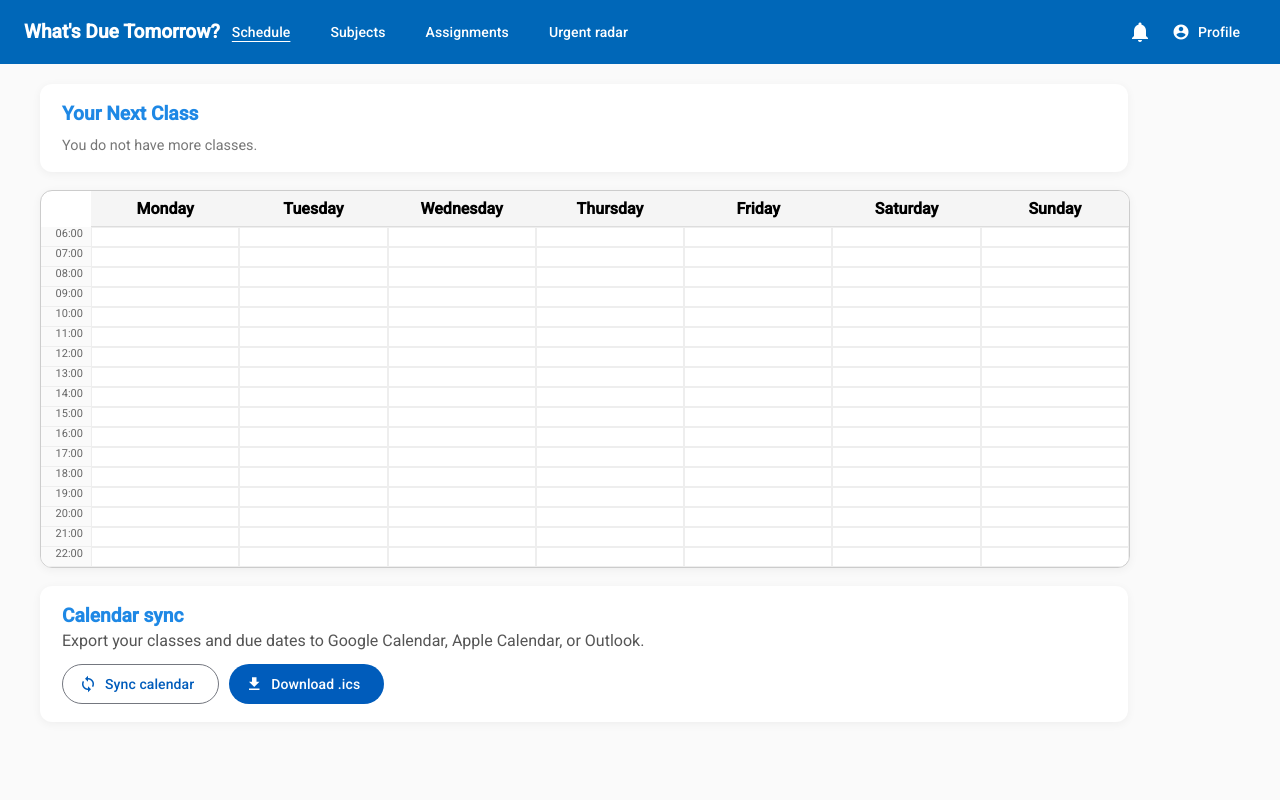
Test: F23: Sincronización y Exportación de Calendario .ics (Frontend E2E, UI & a11y) › E1: Debería generar y desplegar el enlace de suscripción webcal con mensaje exitoso
Expected: the heading with id "calendar-sync-title" reads "Calendar sync", [62,604,183,627]
Clic en "Sync calendar"
Click the button "Sync calendar".
click(141, 684)  # box [62,664,219,704]
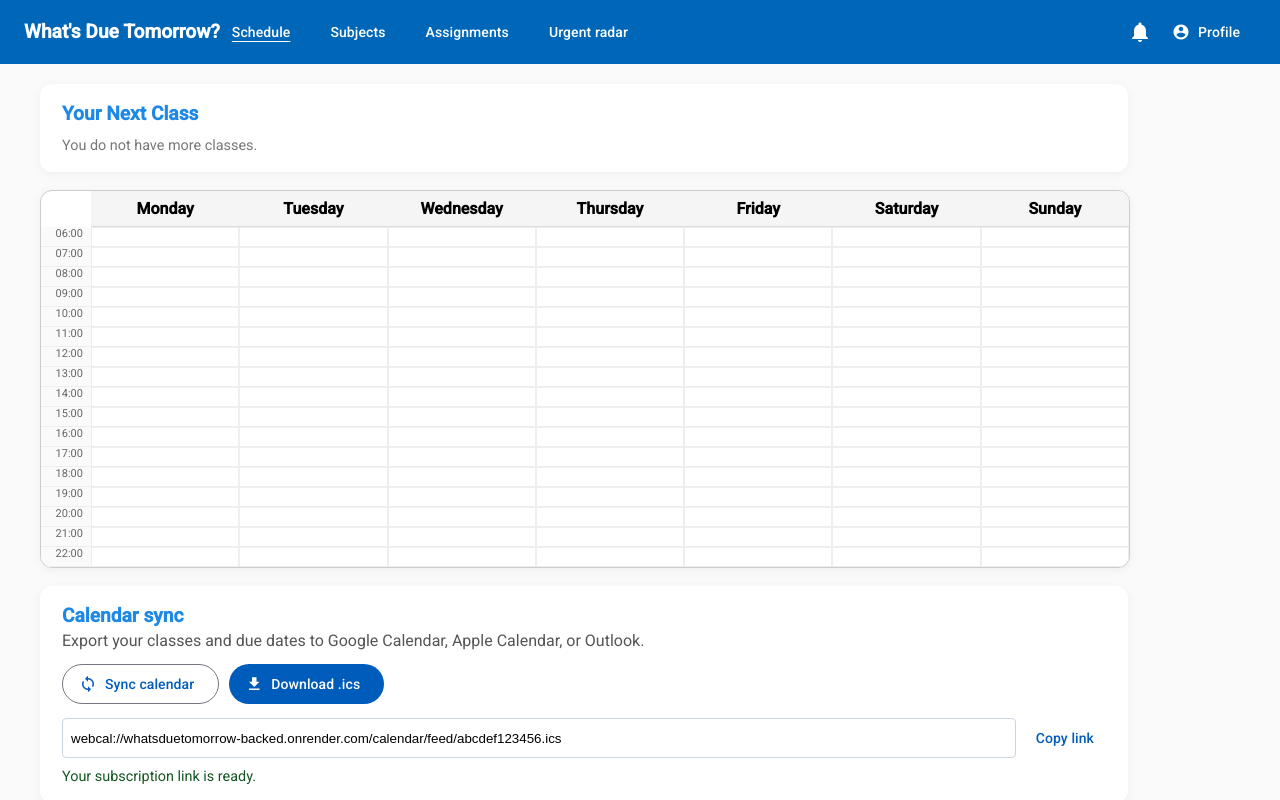
Result: the element with class "subscription-link" is shown at [62,718,1106,758]
Result: the field named "Calendar subscription link" holds "webcal://whatsduetomorrow-backed.onrender.com/calendar/feed/abcdef123456.ics" at [62,718,1016,758]
Result: the message with class "calendar-message" shows "Your subscription link is ready" at [62,768,256,785]
